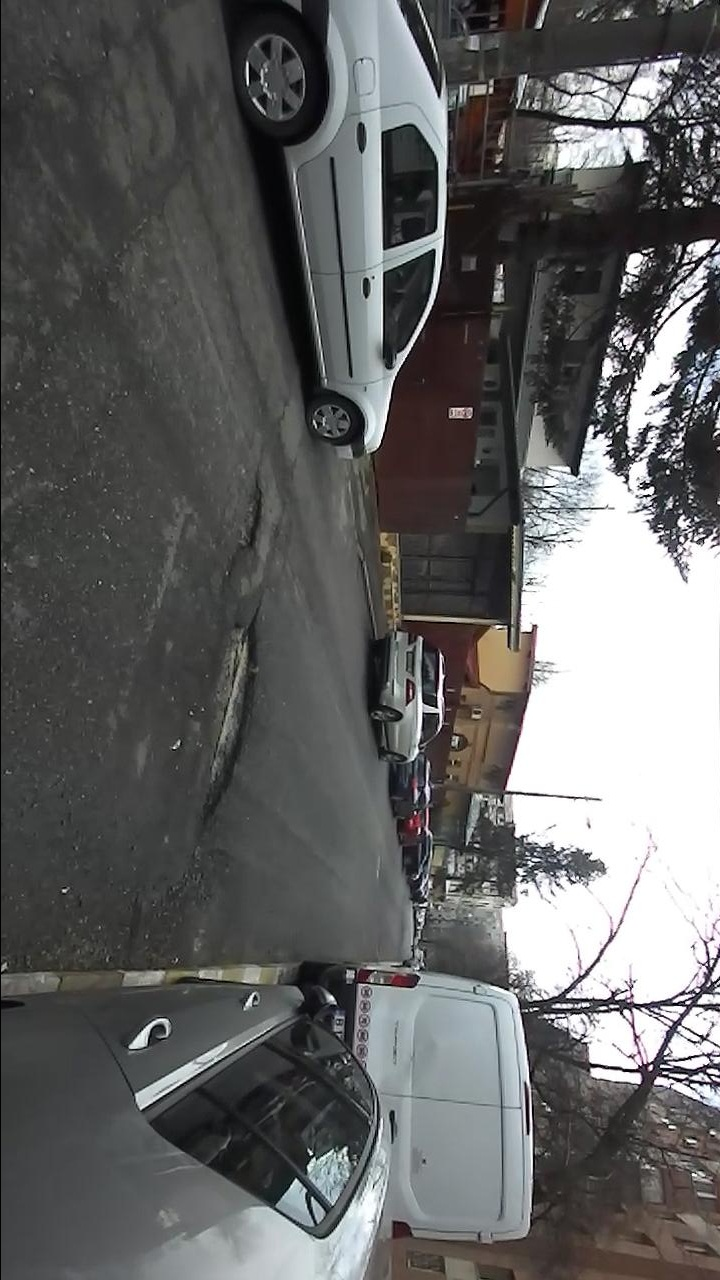pothole: (193, 596, 264, 835), (226, 472, 267, 573)
